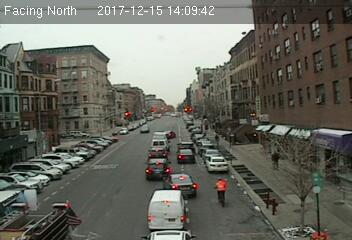bicycle: (214, 177, 228, 208)
car: (162, 173, 196, 196), (146, 158, 170, 180), (204, 154, 228, 172), (176, 149, 194, 163), (147, 147, 168, 158), (178, 141, 195, 149)
pedestrian: (272, 149, 280, 168)
truck: (147, 189, 187, 229), (152, 131, 167, 147)
